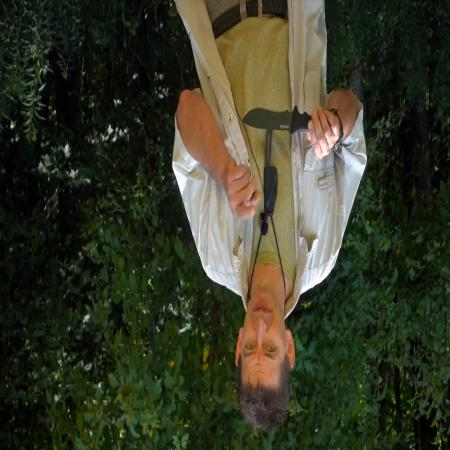long weapon: (238, 100, 336, 162)
